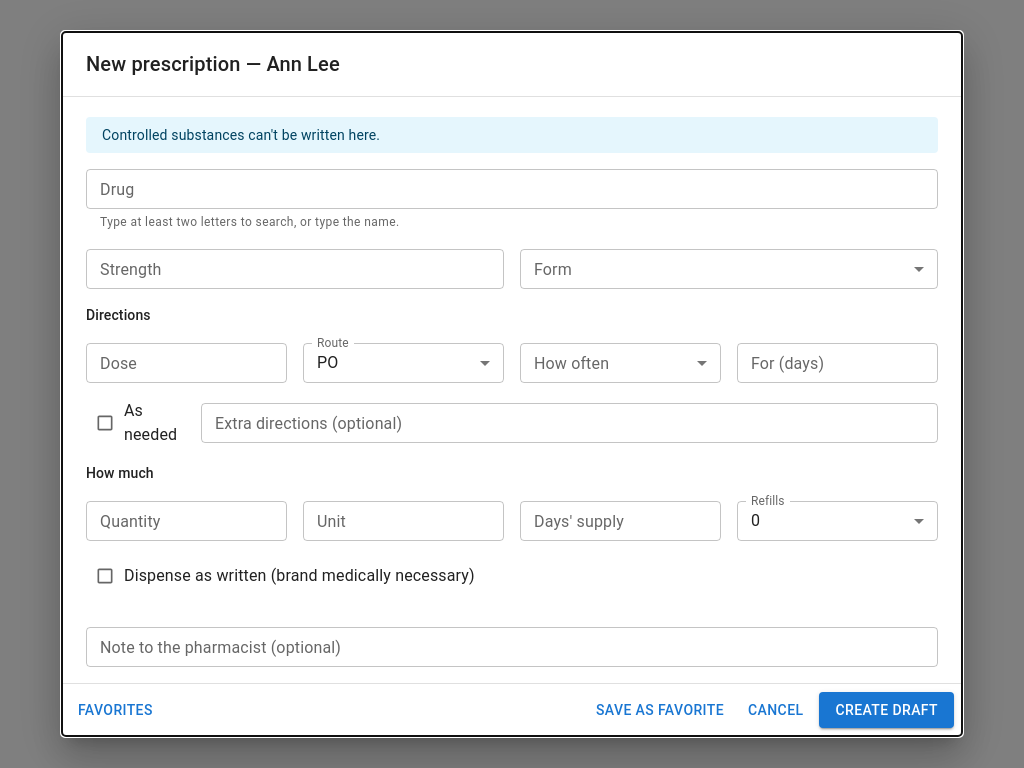
Scenario: favorites › a favorite can be removed, and the list can be searched
Click the button with test id "rx-open-favorites" at [115, 710], box [70,692,161,728]
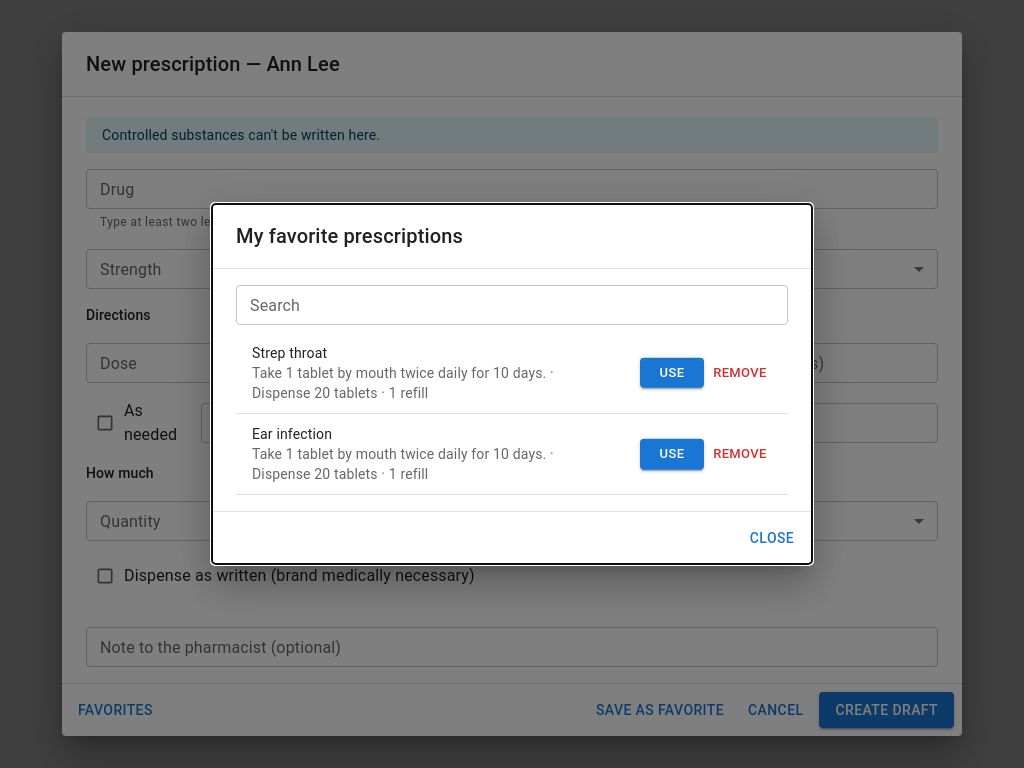
expect the list item with test id "rx-favorite-42" is shown: met, box [236,414,788,495]
Click the button with test id "rx-favorite-remove-42" at [740, 454], box [708,438,772,469]
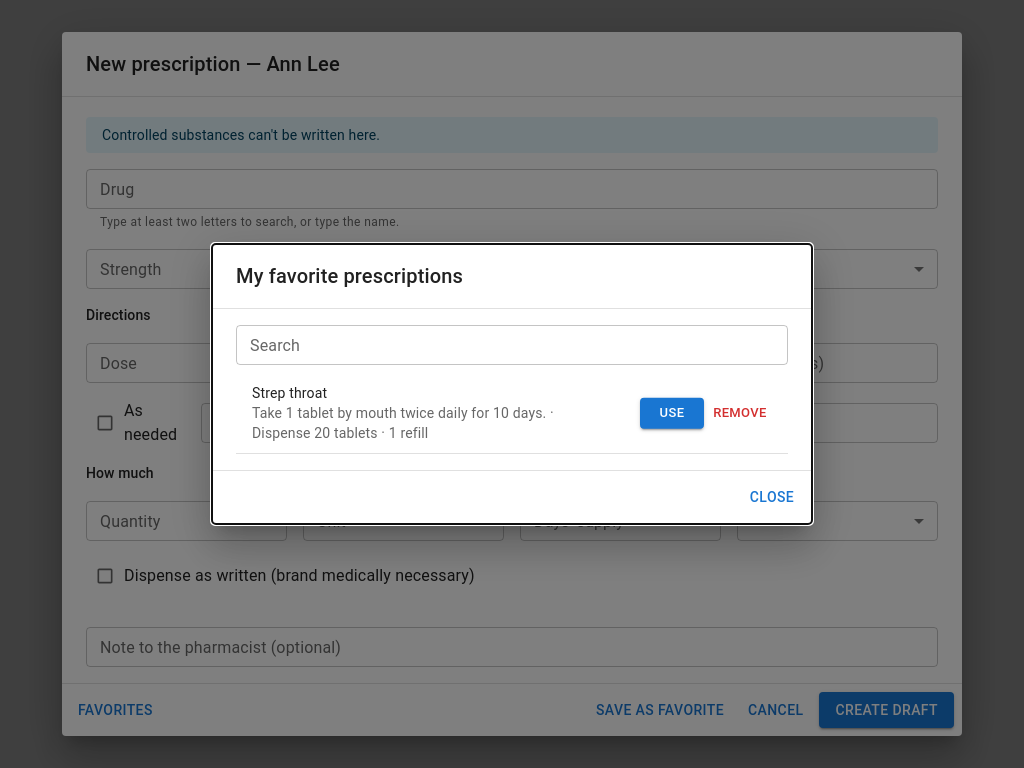
expect the list item with test id "rx-favorite-42" is gone: met
Type "zzz" into the field with test id "rx-favorites-search" at [512, 345], box [236,325,788,365]
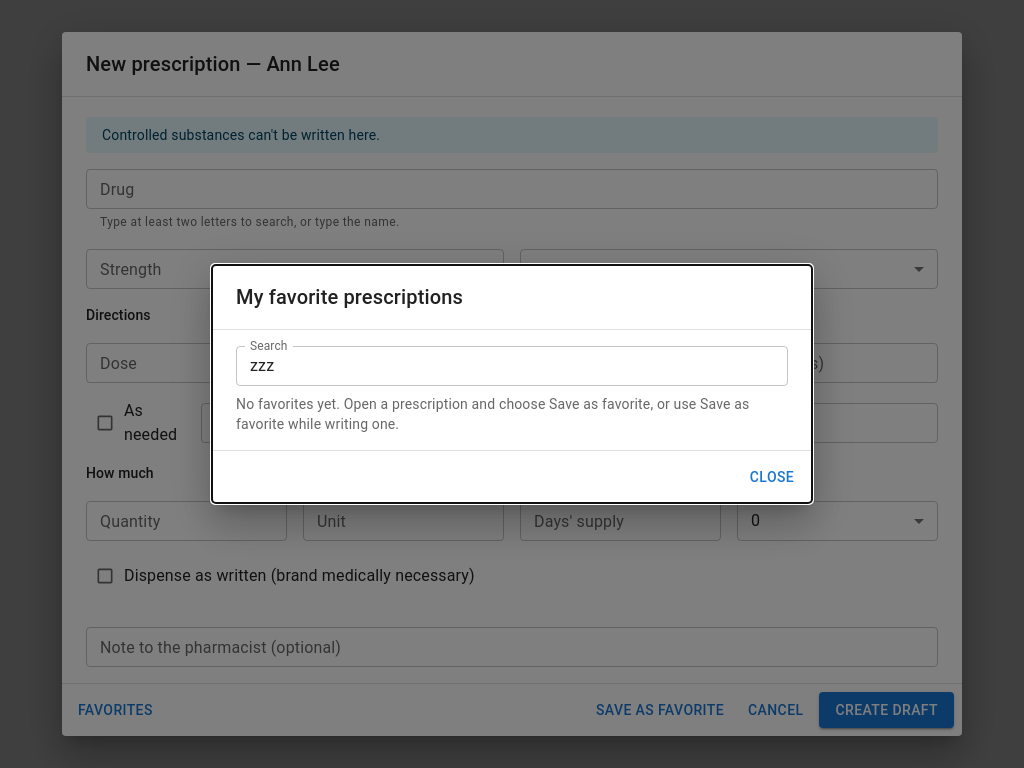
expect the text with test id "rx-favorites-empty" is shown: met, box [236,394,788,434]
